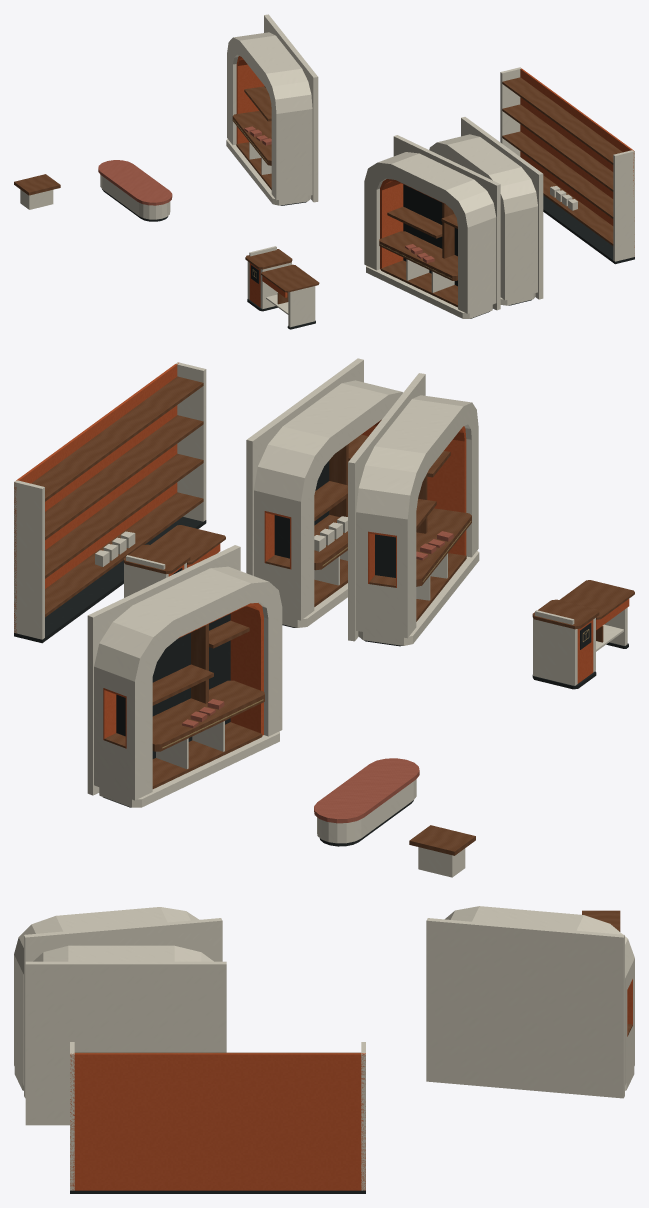
The model's file is SHOP_D09_S100_F132__fitout.glb.
The picture shows the model from 3 angles, top to bottom: view 1: azimuth 30°, elevation 25°; view 2: azimuth 150°, elevation 25°; view 3: azimuth 270°, elevation 25°; orthographic projection. The views are drawn at different scales.
Parts seen in each view (by area): view 1: SHOP_D09_S100_F132__fitout__ivory_enamel, SHOP_D09_S100_F132__fitout__warm_walnut, SHOP_D09_S100_F132__fitout__retail_terracotta_enamel, SHOP_D09_S100_F132__fitout__dark_rubber, SHOP_D09_S100_F132__fitout__clay_weave; view 2: SHOP_D09_S100_F132__fitout__ivory_enamel, SHOP_D09_S100_F132__fitout__warm_walnut, SHOP_D09_S100_F132__fitout__retail_terracotta_enamel, SHOP_D09_S100_F132__fitout__dark_rubber, SHOP_D09_S100_F132__fitout__clay_weave; view 3: SHOP_D09_S100_F132__fitout__ivory_enamel, SHOP_D09_S100_F132__fitout__retail_terracotta_enamel, SHOP_D09_S100_F132__fitout__dark_rubber, SHOP_D09_S100_F132__fitout__warm_walnut.
Part boxes in pixels (left/top/right/bottom): SHOP_D09_S100_F132__fitout__ivory_enamel: left=20, top=14, right=634, bottom=327; SHOP_D09_S100_F132__fitout__warm_walnut: left=14, top=77, right=622, bottom=307; SHOP_D09_S100_F132__fitout__retail_terracotta_enamel: left=236, top=56, right=634, bottom=307; SHOP_D09_S100_F132__fitout__dark_rubber: left=102, top=87, right=634, bottom=329; SHOP_D09_S100_F132__fitout__clay_weave: left=98, top=126, right=434, bottom=263; SHOP_D09_S100_F132__fitout__ivory_enamel: left=14, top=358, right=627, bottom=877; SHOP_D09_S100_F132__fitout__warm_walnut: left=31, top=376, right=634, bottom=855; SHOP_D09_S100_F132__fitout__retail_terracotta_enamel: left=14, top=362, right=629, bottom=748; SHOP_D09_S100_F132__fitout__dark_rubber: left=14, top=461, right=628, bottom=846; SHOP_D09_S100_F132__fitout__clay_weave: left=182, top=531, right=453, bottom=823; SHOP_D09_S100_F132__fitout__ivory_enamel: left=14, top=906, right=634, bottom=1190; SHOP_D09_S100_F132__fitout__retail_terracotta_enamel: left=70, top=979, right=632, bottom=1190; SHOP_D09_S100_F132__fitout__dark_rubber: left=70, top=1190, right=365, bottom=1193; SHOP_D09_S100_F132__fitout__warm_walnut: left=75, top=910, right=632, bottom=1053.
Size of the model in its own units: 10.25 by 3 by 10.49.
6 materials, 6 textured.
